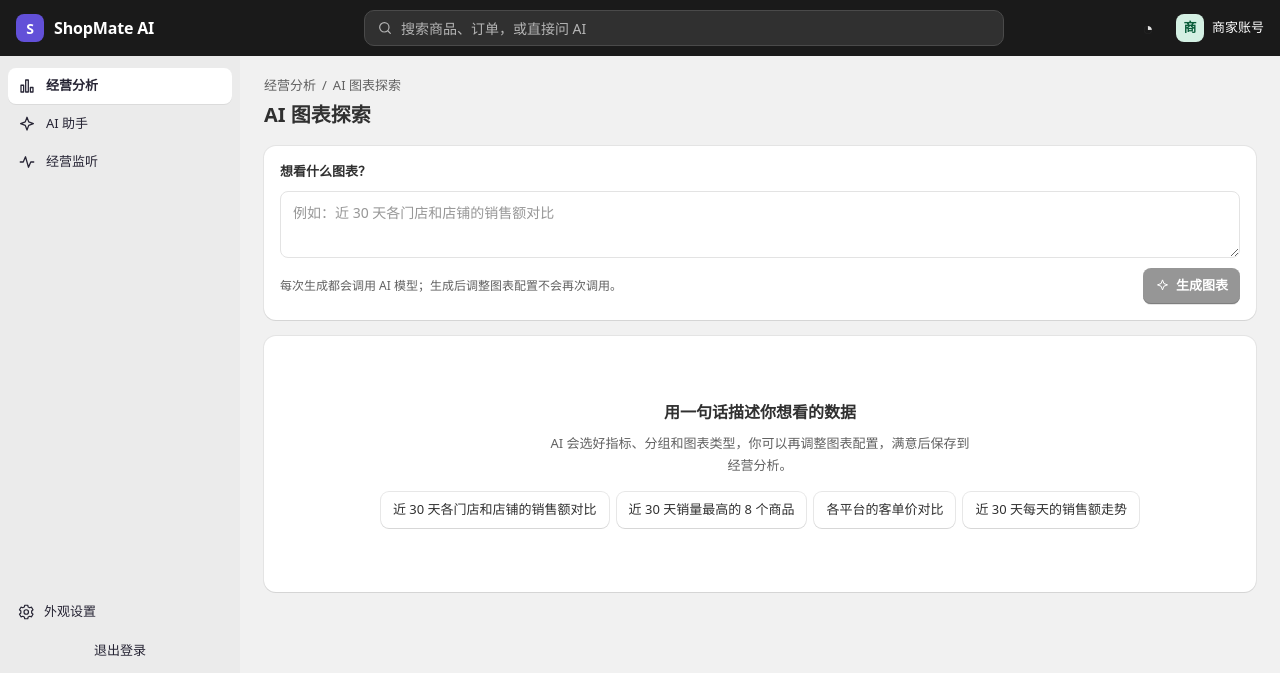
Test: ExploreClient › saves the current chart to 经营分析 and links there
This screenshot has width=1280, height=673.
Type "各门店销售额对比" into the text box labelled "想看什么图表？". click: [760, 224]
box: [280, 191, 1240, 258]
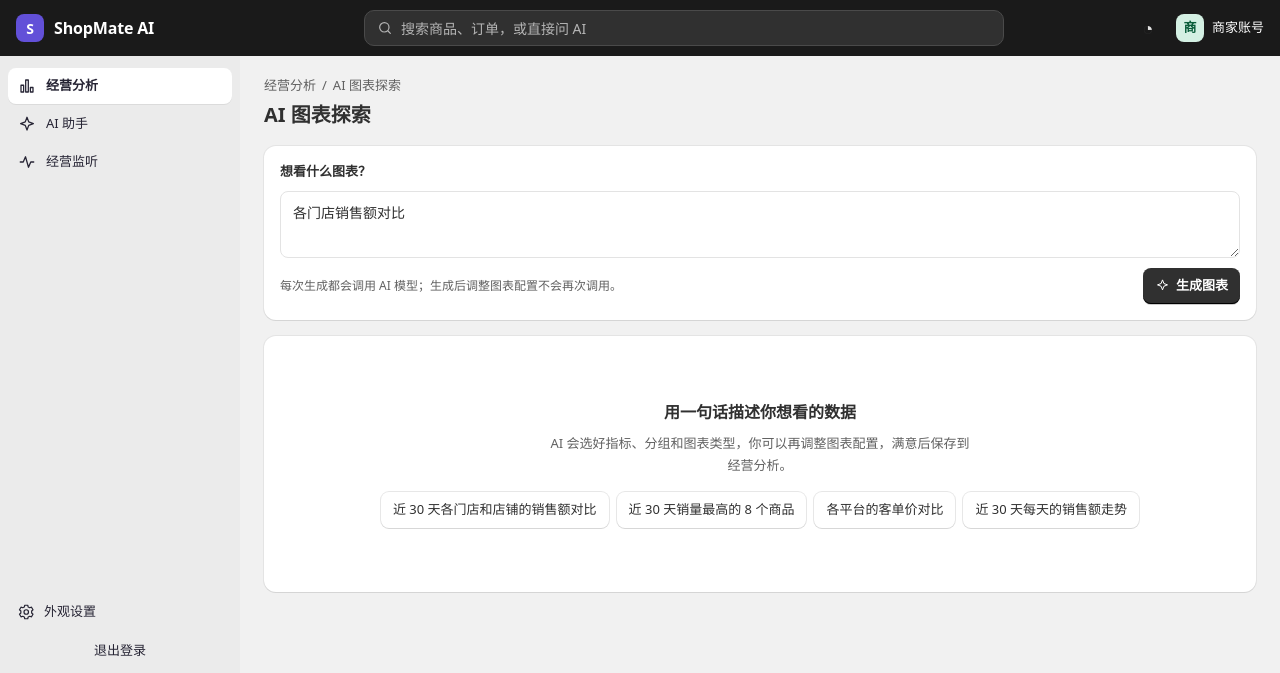
Click the button "生成图表". click: [1192, 286]
box: [1143, 268, 1240, 304]
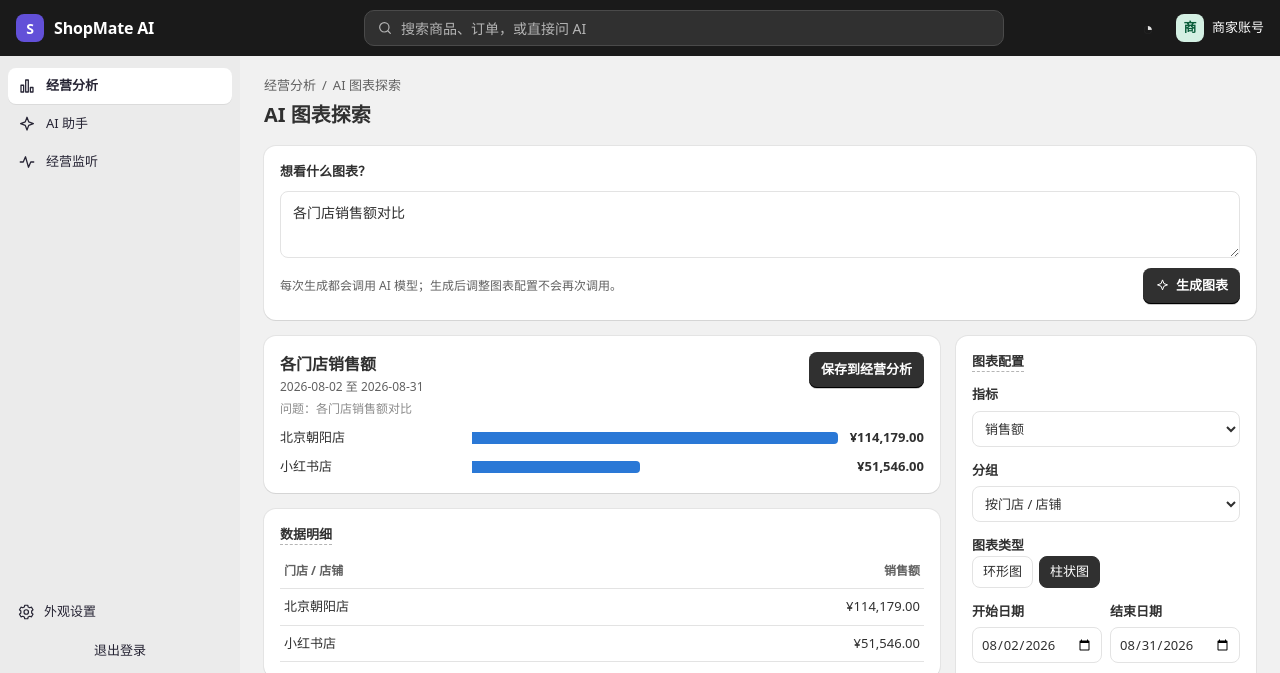
Click the button "保存到经营分析". click: [866, 370]
box: [809, 352, 924, 388]
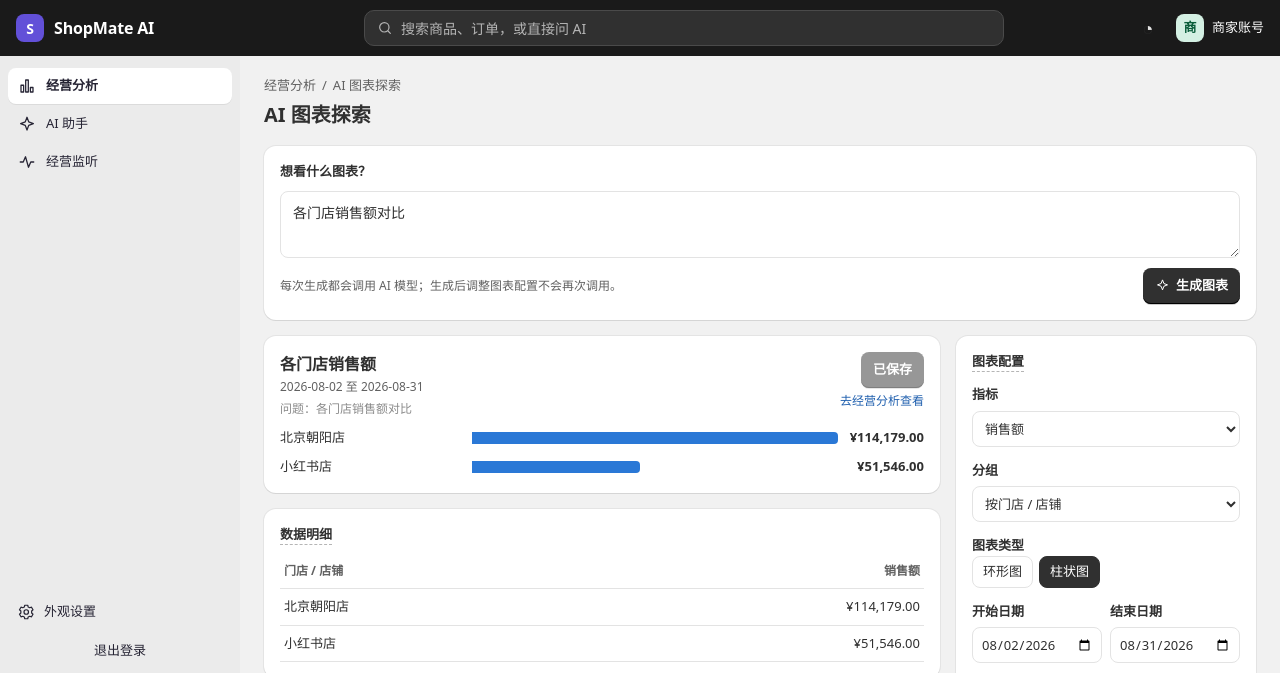
Expected: the button "已保存" is disabled, [861, 352, 924, 388]
